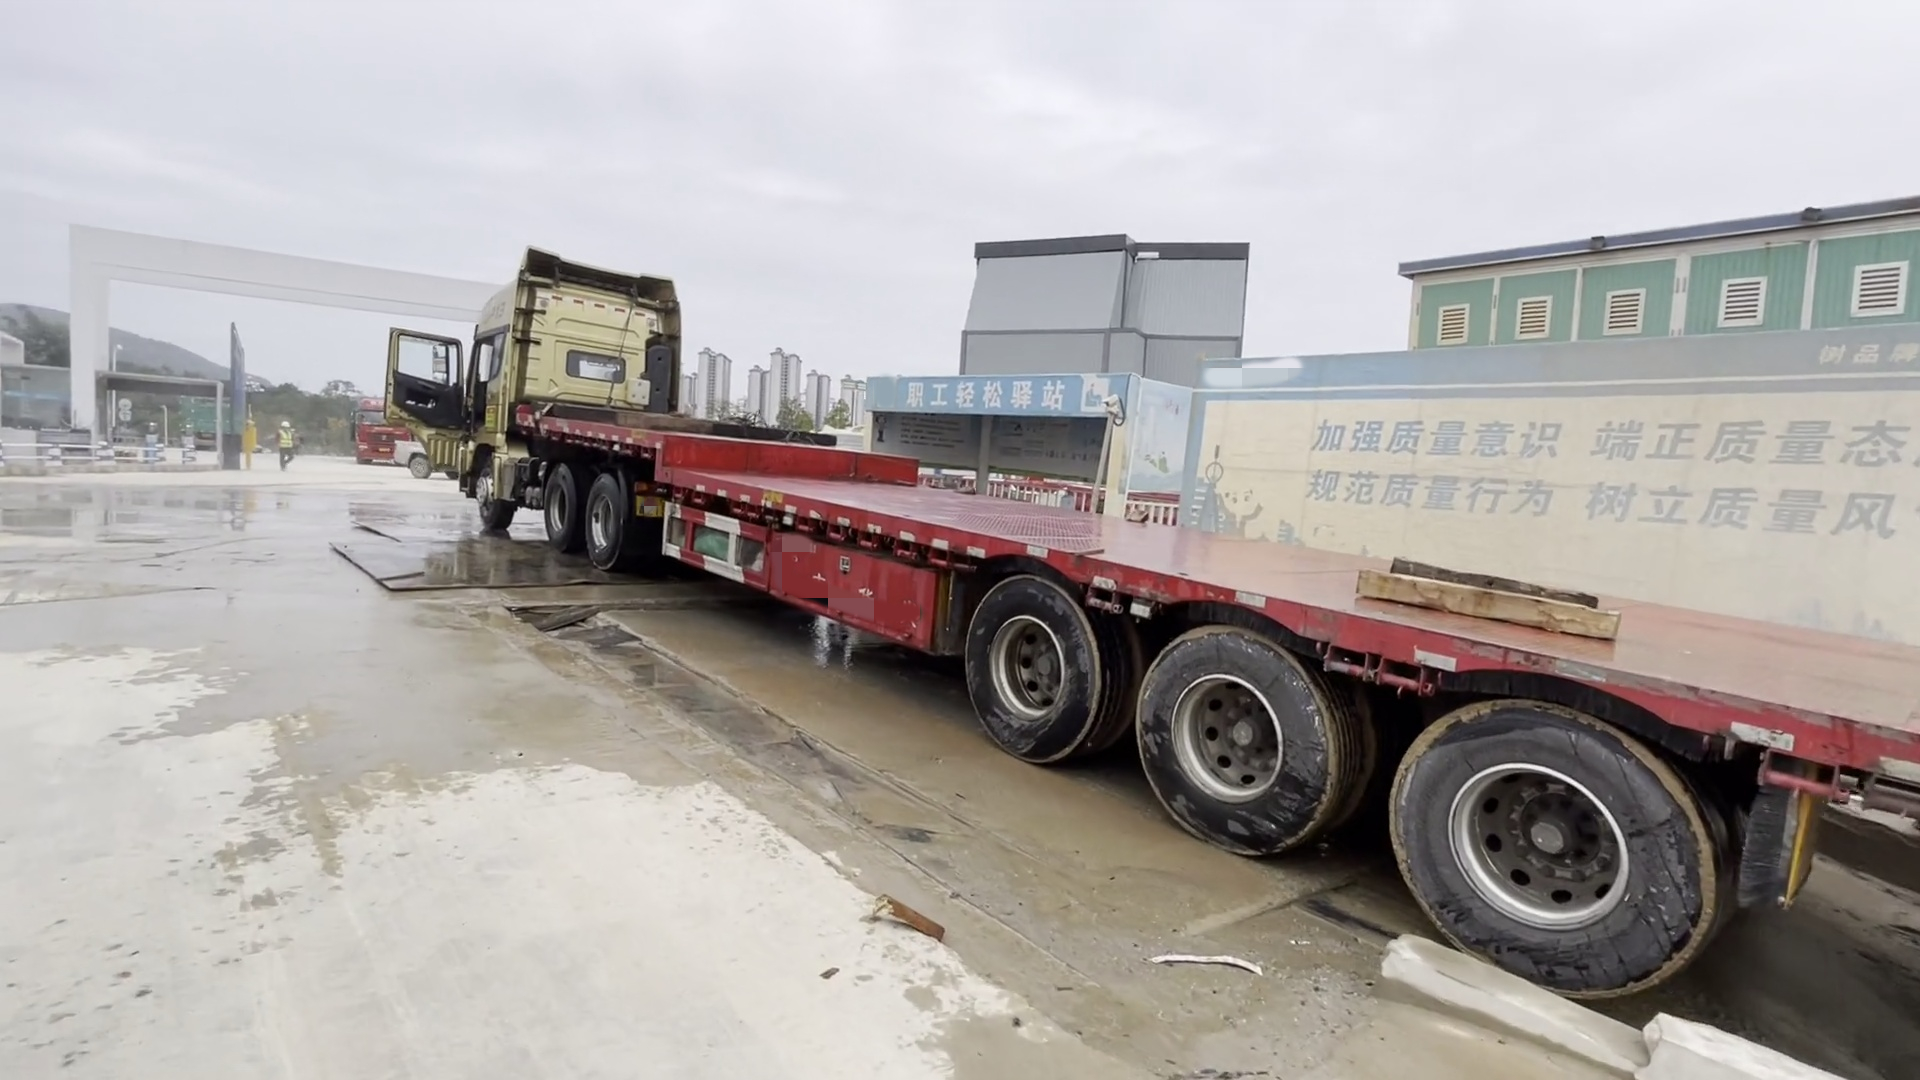helmet: (280, 421, 290, 428)
person: (275, 419, 297, 469)
slogan: (1296, 379, 1920, 569), (1815, 334, 1920, 372)
vest: (278, 431, 293, 448)
